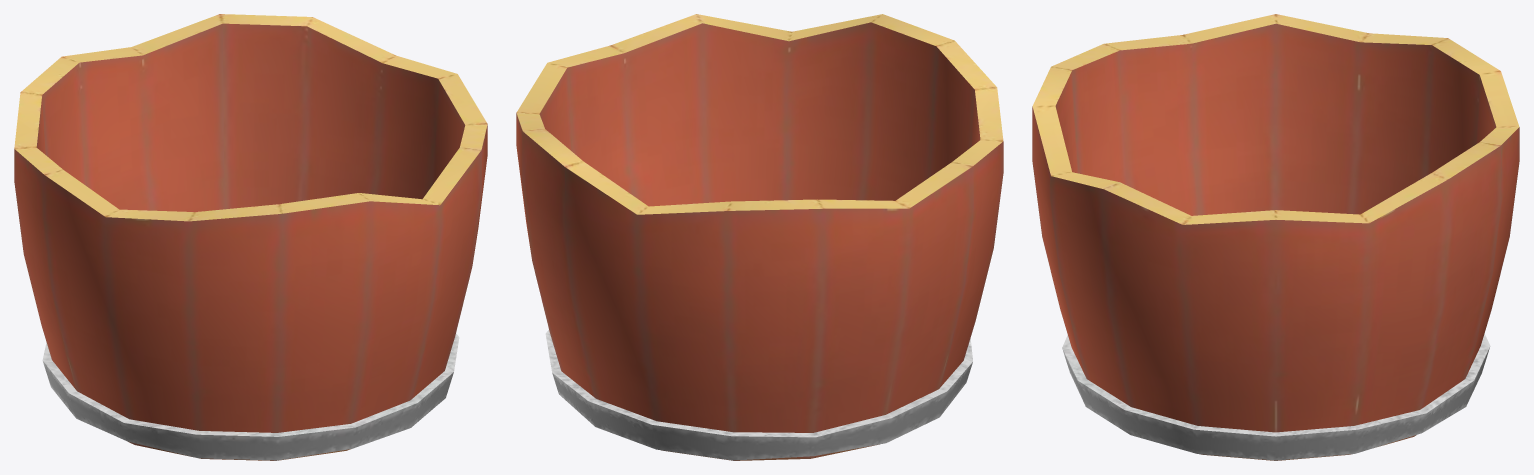
Rendered from barrel_broken.glb.
3 views of the same model, side by side, from view 1: azimuth 30°, elevation 25°; view 2: azimuth 150°, elevation 25°; view 3: azimuth 270°, elevation 25° (orthographic). The views are drawn at different scales.
Visible parts, largest first — view 1: Barrel_Broken_1; view 2: Barrel_Broken_1; view 3: Barrel_Broken_1.
Boxes of the visible parts, x1,y1,x2,y2 form: Barrel_Broken_1: (14,14,487,460); Barrel_Broken_1: (516,14,1003,460); Barrel_Broken_1: (1032,14,1519,460).
Size of the model in its own units: 0.8411 by 0.5193 by 0.8411.
Materials: 1 (1 with a texture image).
